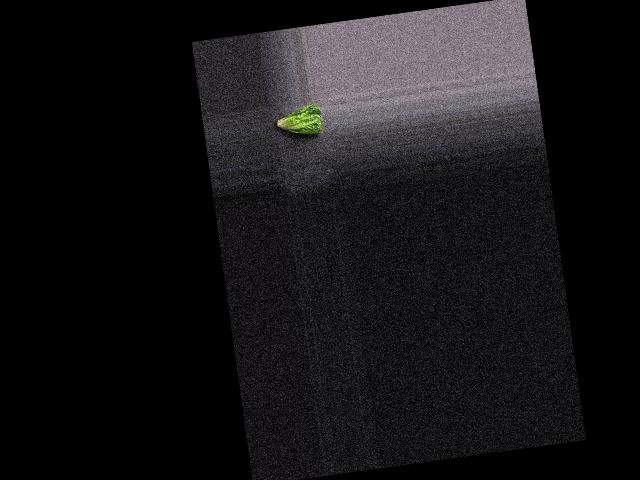lettuce: (271, 102, 324, 141)
